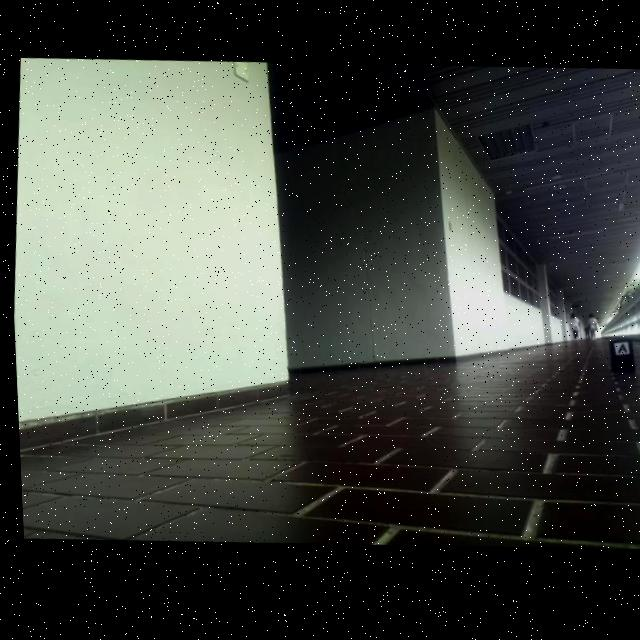A: (614, 349, 623, 359)
